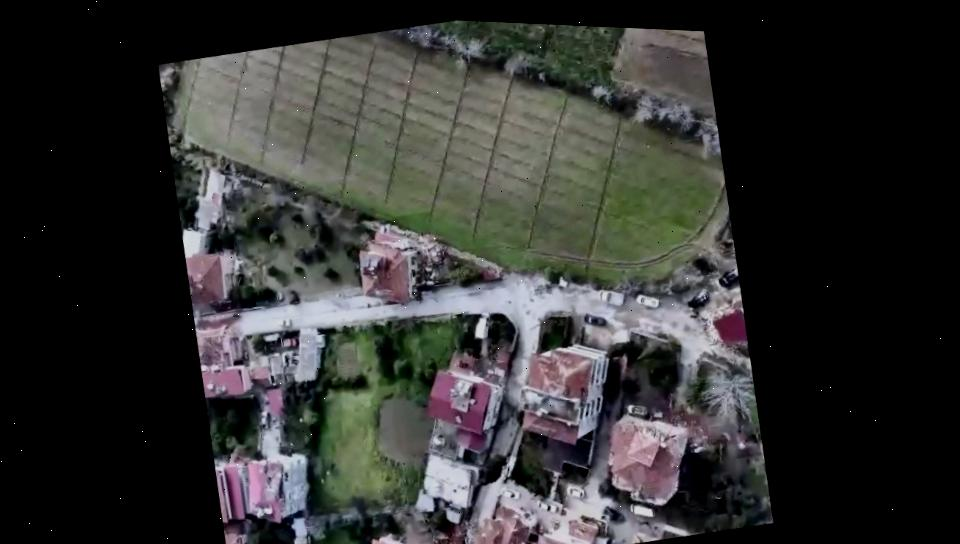kapali: (194, 307, 262, 339), (462, 497, 497, 544)
